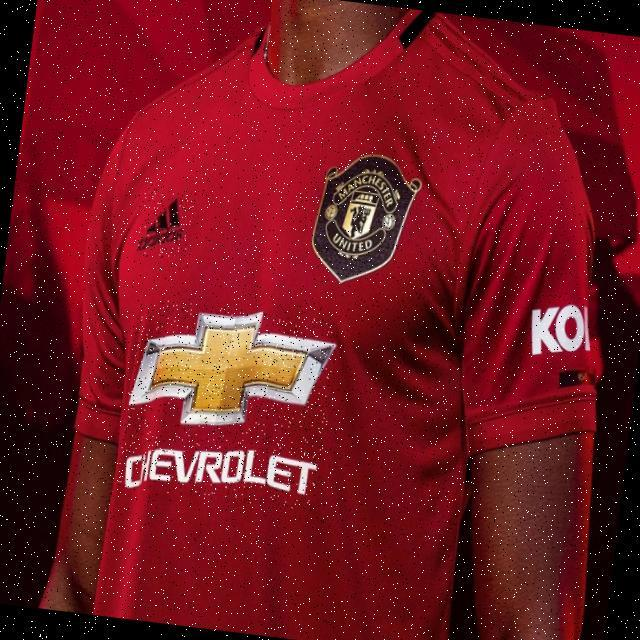Adidas: (134, 188, 195, 263)
Chevrolet: (116, 297, 339, 511)
